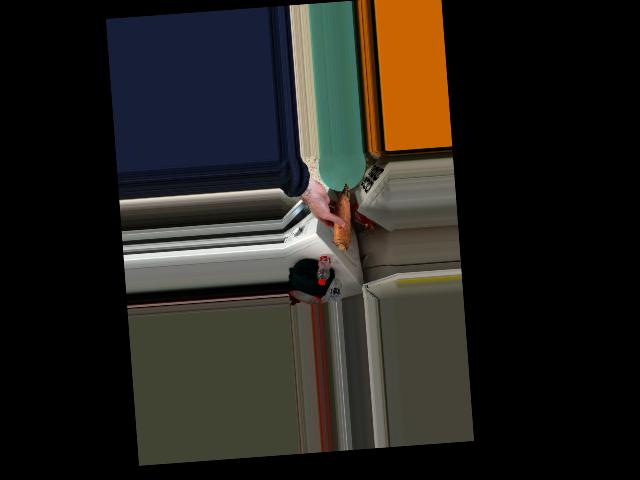sweet_potato: (330, 183, 352, 247)
